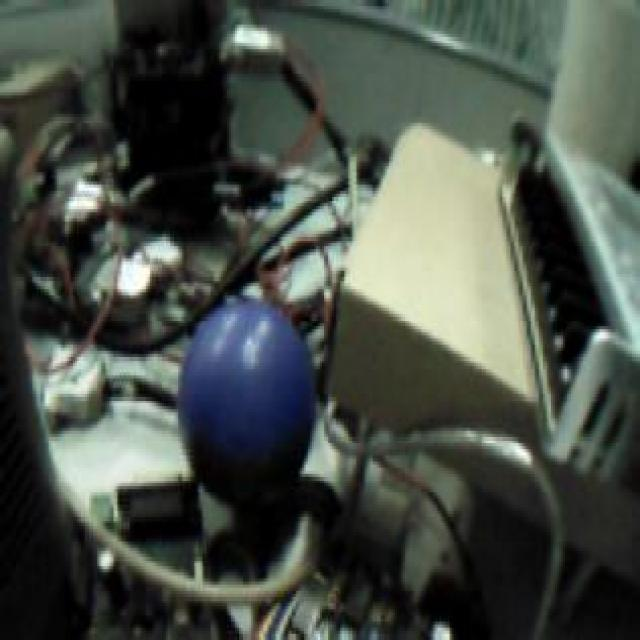BallPurple: (176, 303, 316, 499)
